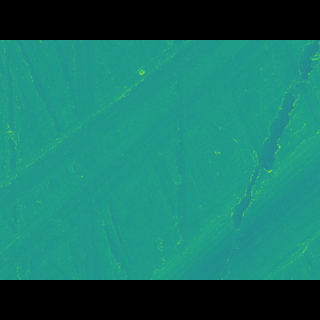Loch: (0, 69, 289, 199), (144, 143, 320, 248)
